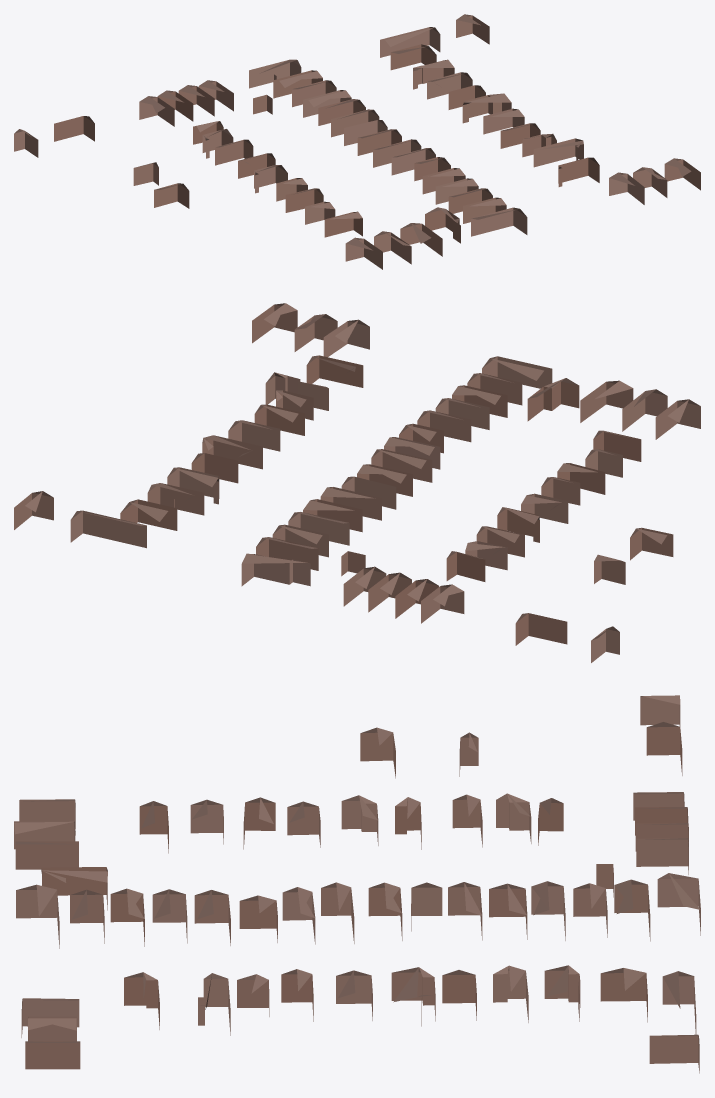
File: c_1641_17825_buildings_residential.glb
3 views of the same model, one above another, from view 1: azimuth 30°, elevation 25°; view 2: azimuth 150°, elevation 25°; view 3: azimuth 270°, elevation 25° (orthographic). The views are drawn at different scales.
Visible parts, largest first — view 1: geometry_0; view 2: geometry_0; view 3: geometry_0.
Part boxes in pixels (x1=…): geometry_0: x1=14, y1=14, x2=700, y2=269; geometry_0: x1=14, y1=303, x2=700, y2=662; geometry_0: x1=14, y1=695, x2=700, y2=1073.
Size of the model in its own units: 246 by 10.68 by 199.
